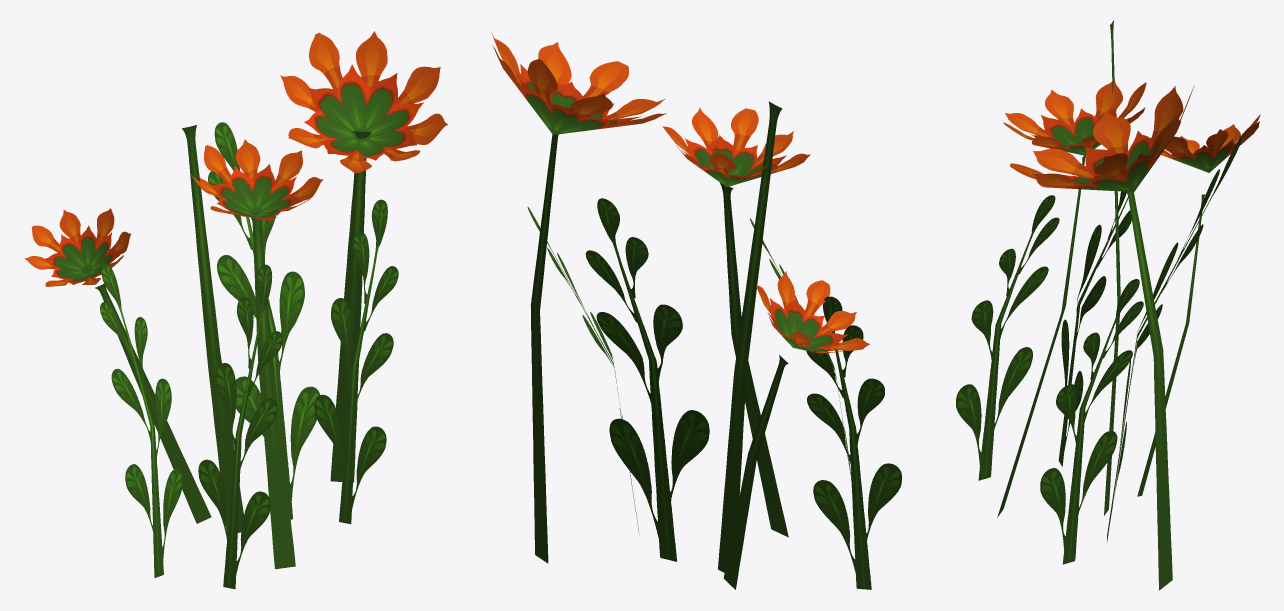
Rendered from Flower_02b.FBX.
The picture shows the model from 3 angles, left to right: view 1: azimuth 30°, elevation 25°; view 2: azimuth 150°, elevation 25°; view 3: azimuth 270°, elevation 25°; orthographic projection. The views are drawn at different scales.
Visible parts, largest first — view 1: Flower_02b; view 2: Flower_02b; view 3: Flower_02b.
Part boxes in pixels (x1,y1,x2,y2): Flower_02b: [24, 31, 447, 589]; Flower_02b: [491, 32, 901, 589]; Flower_02b: [956, 20, 1260, 590].
Bounding box in the file's own units: 21.52 × 24.66 × 14.32.
1 material, 1 textured.
